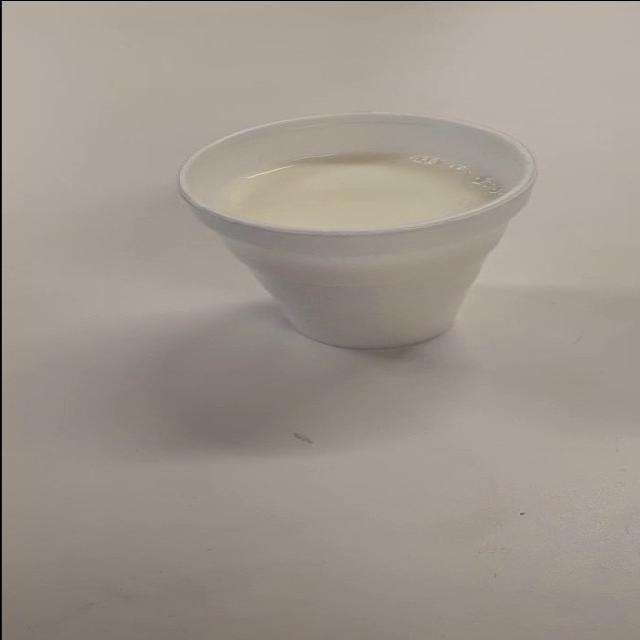Milk: (156, 92, 577, 361)
